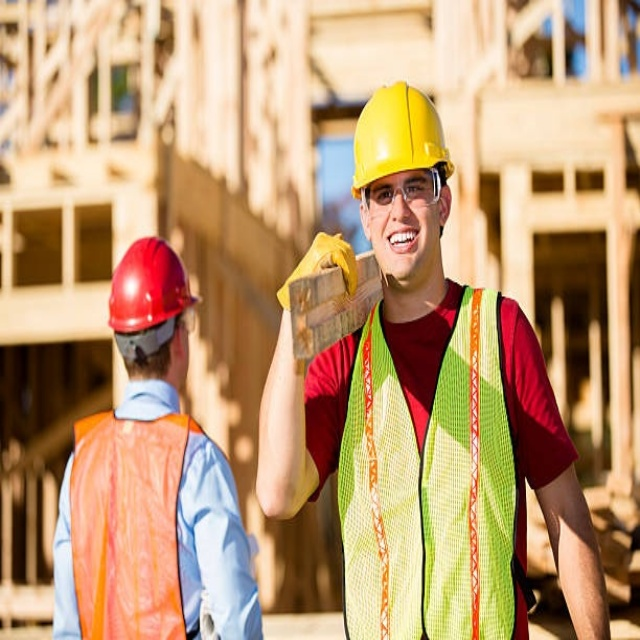Gafas: (362, 163, 445, 212)
Guantes: (284, 231, 356, 310)
Sin_mascara: (383, 220, 419, 268)
